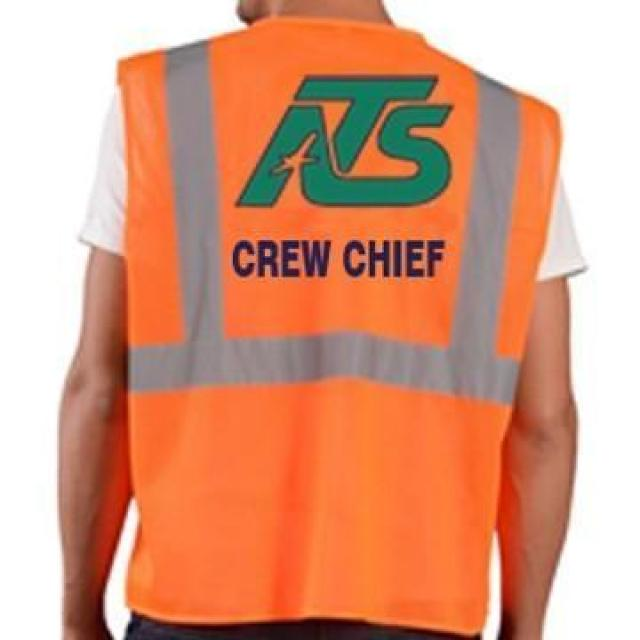Vest: (110, 13, 566, 636)
